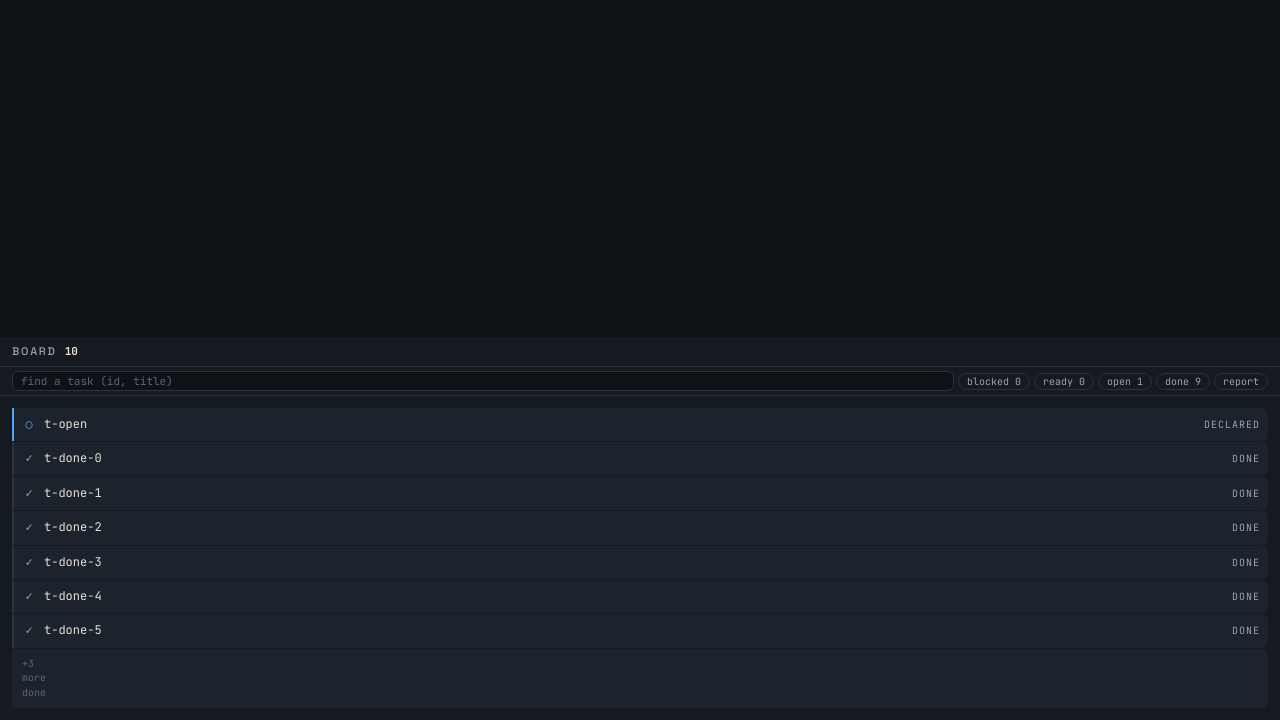
Test case: TaskBoard › collapses the done tail unless the board is being searched
This screenshot has width=1280, height=720.
(page scrolled)
Expected: the list item "+3 more done" is shown, [12,649,1268,708]
What coordinates should you click on to do the following:
click the button "done 9"
I would click on:
 (1183, 381)
Its box is [1156,372,1210,390].
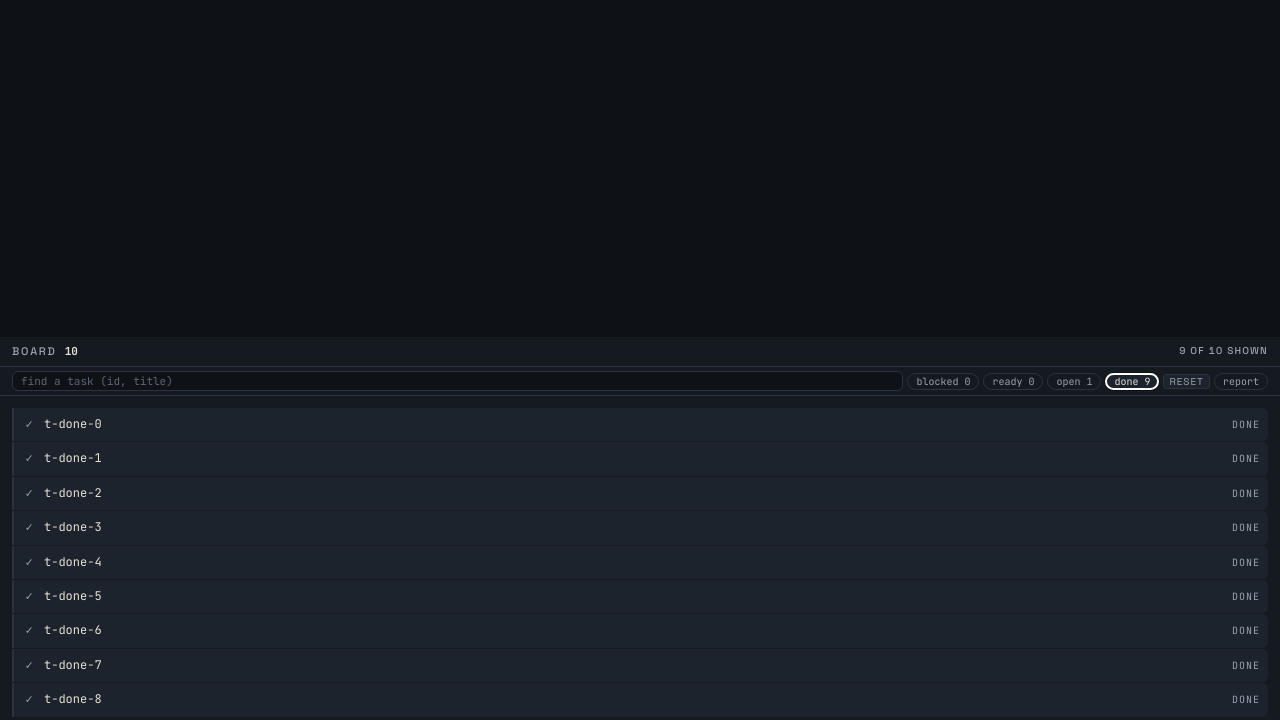
Now the list item "+3 more done" is gone
